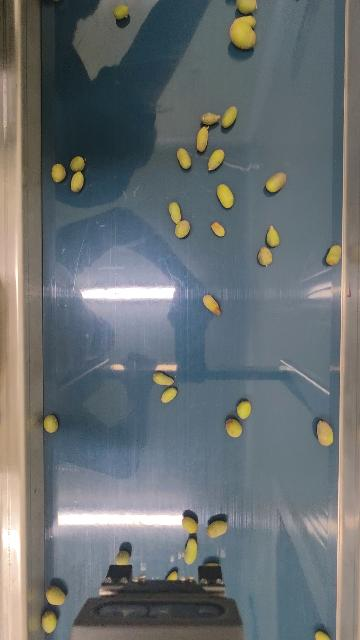Baby Potato: (228, 15, 258, 51), (316, 419, 335, 447), (265, 171, 288, 194), (202, 293, 222, 317), (216, 183, 234, 209), (221, 105, 239, 130), (195, 125, 211, 153), (45, 585, 66, 606), (206, 519, 228, 539), (184, 537, 199, 566), (207, 148, 225, 172), (224, 417, 243, 439), (152, 370, 176, 387), (325, 243, 342, 266), (236, 398, 253, 421), (69, 170, 85, 194), (265, 224, 281, 248), (41, 610, 57, 634), (176, 147, 192, 170), (199, 110, 221, 126), (160, 385, 178, 404), (174, 219, 191, 239), (235, 0, 259, 14), (168, 201, 183, 223), (182, 516, 199, 535), (257, 246, 273, 266), (50, 163, 66, 183), (43, 413, 58, 433), (113, 2, 129, 20), (70, 155, 86, 172), (210, 221, 225, 237), (115, 550, 130, 565), (315, 629, 331, 640), (167, 570, 177, 581)
